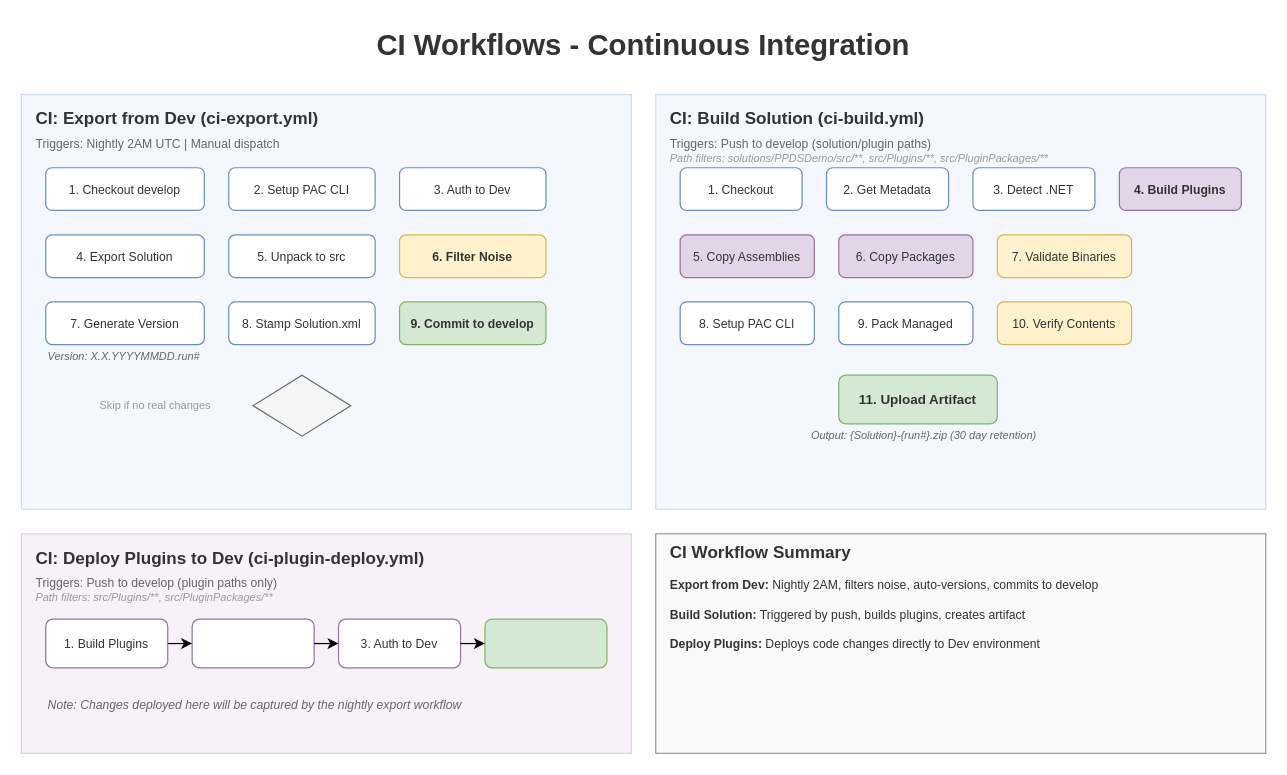
Some shapes in this 1287 by 775 pixel diagram are drawn without their labels. Here are the shapes that lost their labels. From the top down, the centre of each, then its label:
At pixel 301 405: "Changes?".
At pixel 252 643: "2. Extract Regs".
At pixel 545 643: "4. Deploy to Dev".
